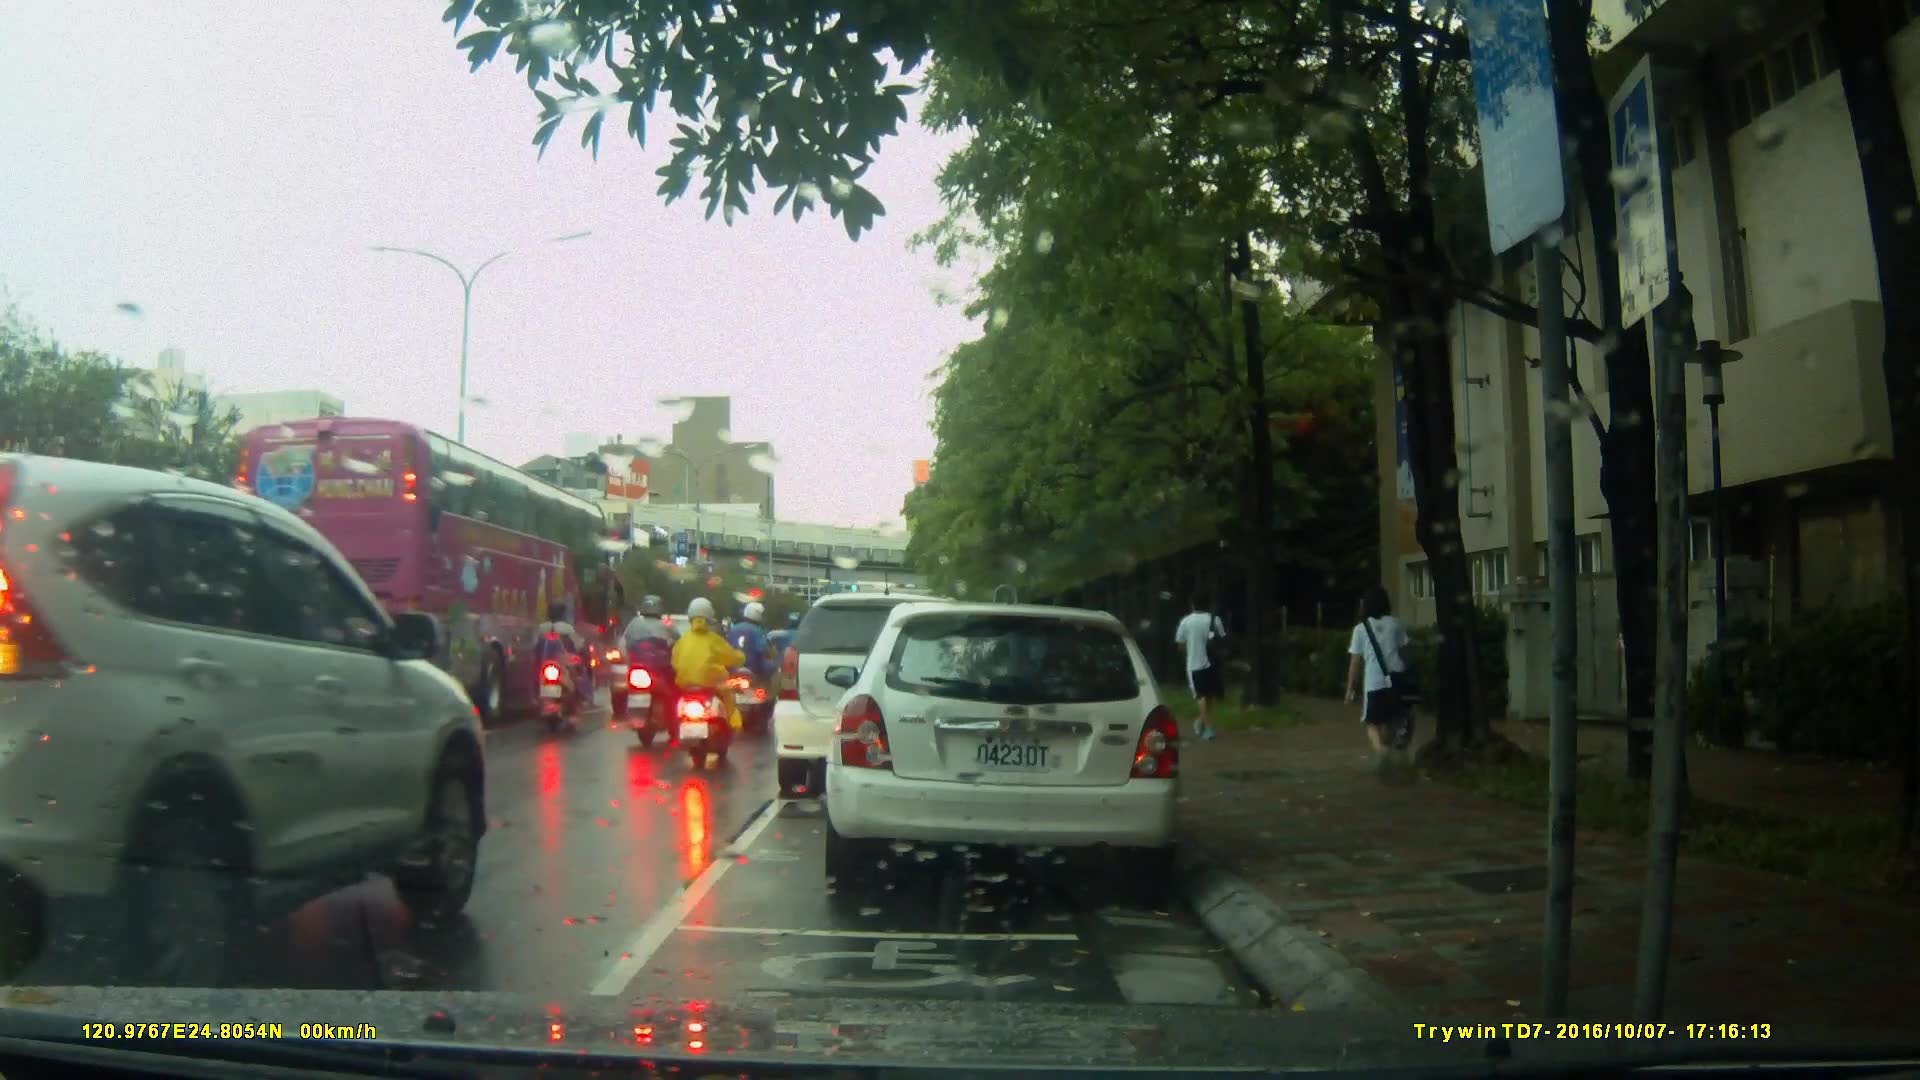pedestrian: (1345, 579, 1430, 791), (1166, 584, 1223, 741)
rider: (674, 598, 739, 766), (625, 591, 680, 747), (722, 605, 783, 734), (537, 602, 588, 732), (774, 612, 818, 720)
vehicle: (1, 447, 492, 990), (224, 414, 618, 719), (835, 594, 1194, 898), (776, 590, 1026, 784), (607, 614, 732, 712)
